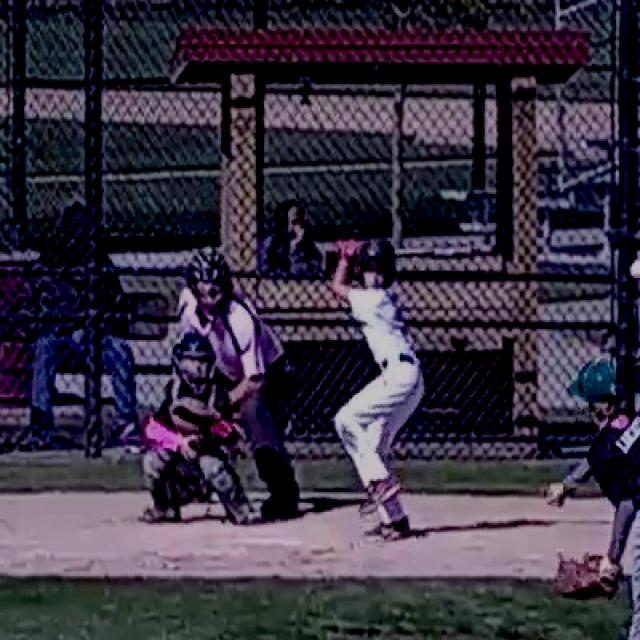baseball: (631, 259, 639, 278)
